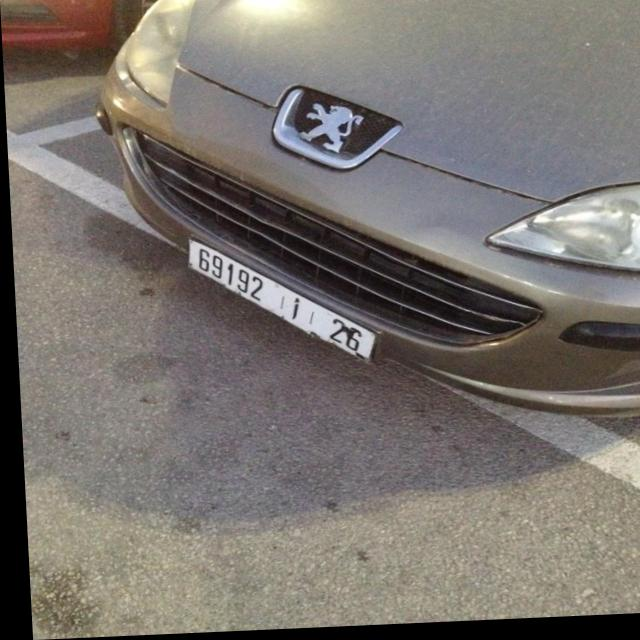License-Plate: (186, 242, 371, 363)
